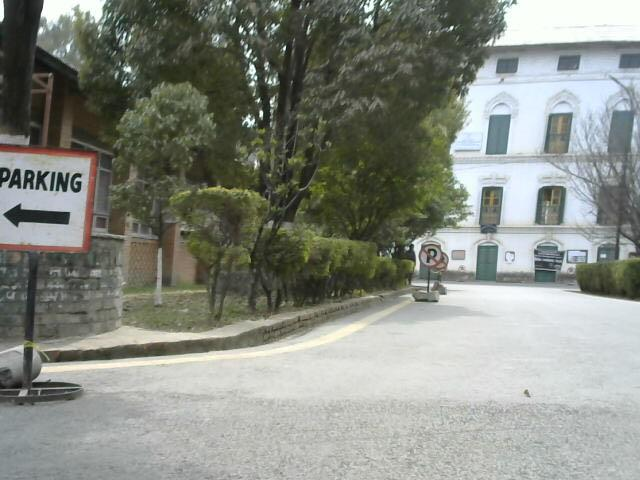Building: (459, 43, 640, 294)
Road: (89, 290, 640, 480)
Traffic sign: (1, 144, 95, 426), (414, 242, 448, 301)
Tree: (102, 0, 497, 291)
